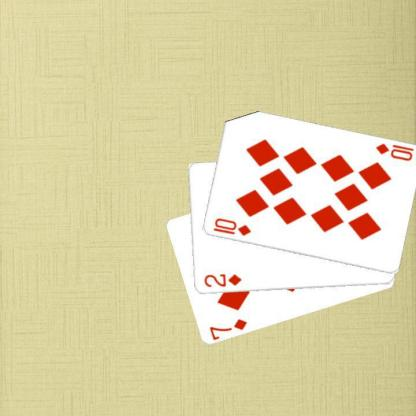10D: (210, 216, 252, 238), (373, 140, 415, 162)
2D: (201, 271, 242, 289)
7D: (207, 316, 248, 340)
